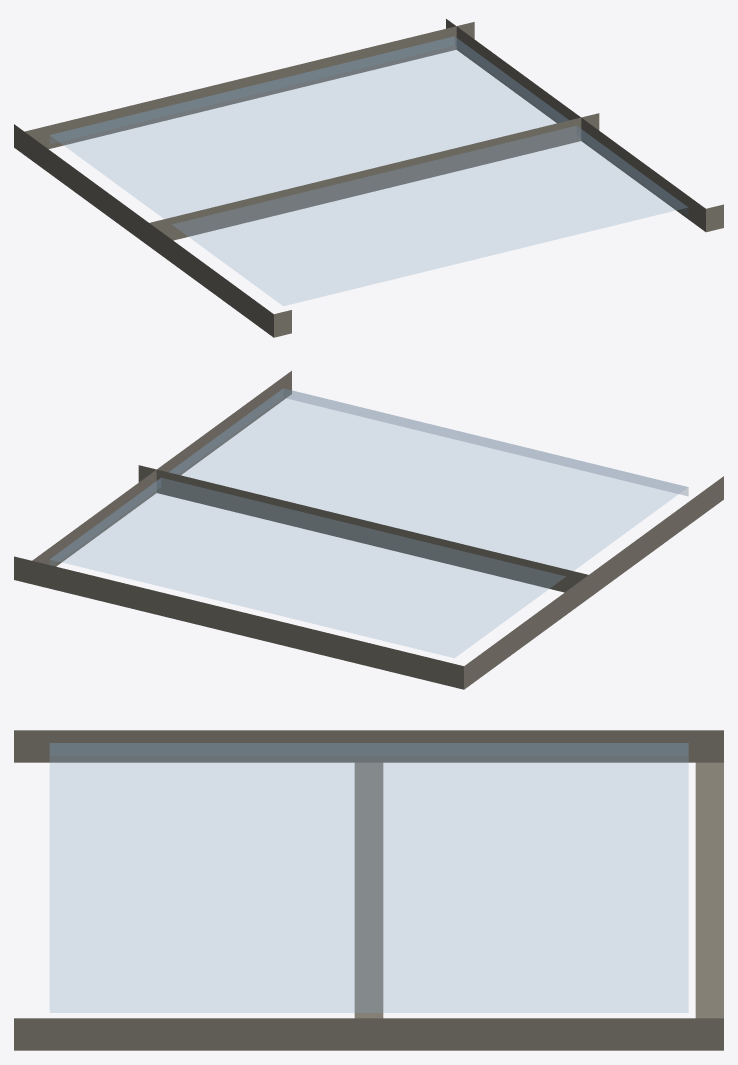
The model's file is fzk-haus-window-2.glb.
The picture shows the model from 3 angles, top to bottom: view 1: azimuth 30°, elevation 25°; view 2: azimuth 150°, elevation 25°; view 3: azimuth 270°, elevation 25°; orthographic projection. The views are drawn at different scales.
Visible parts, largest first — view 1: opening; view 2: opening; view 3: opening.
Boxes of the visible parts, left/top/right/bottom form: opening: left=14, top=19, right=723, bottom=337; opening: left=14, top=371, right=723, bottom=689; opening: left=14, top=730, right=723, bottom=1050.
Size of the model in its own units: 1 by 0.05 by 1.
